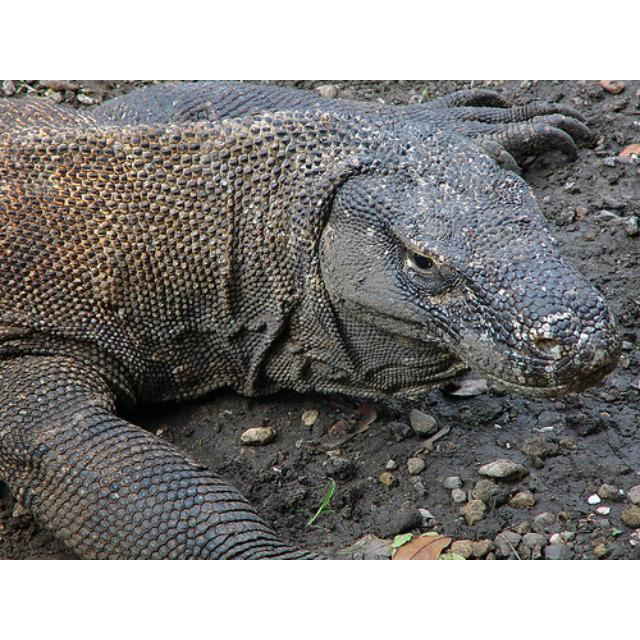KomodoDragon: (1, 81, 620, 558)
